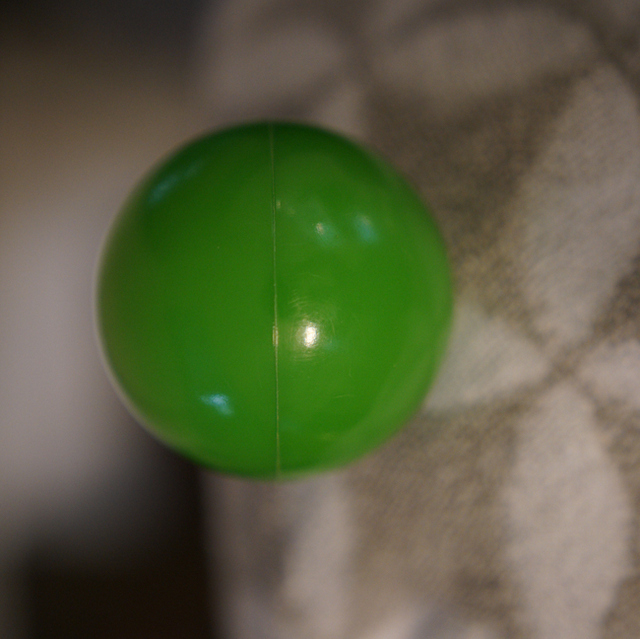Ball: (99, 121, 452, 465)
